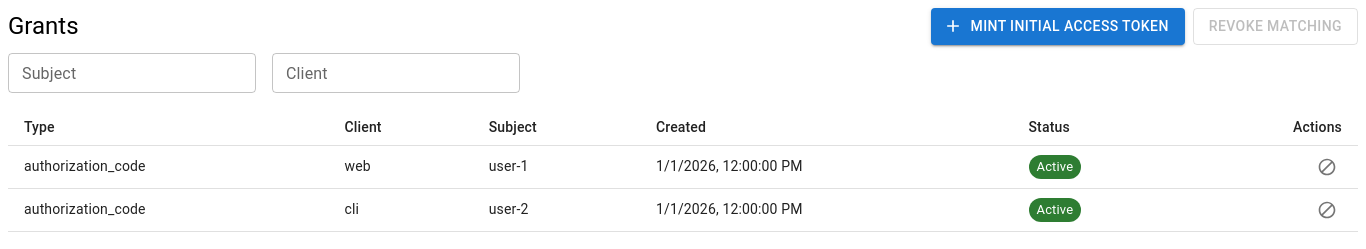
GrantsPage (list states and filters) › applies the trimmed subject and client filters as list query parameters
The width and height of the screenshot is (1366, 249).
Expected: the row with test id "grant-row-g-2" is shown, [8,188,1358,231]
Type " user-1 " into the field labelled "Subject" at (132, 72), box [8,52,256,92]
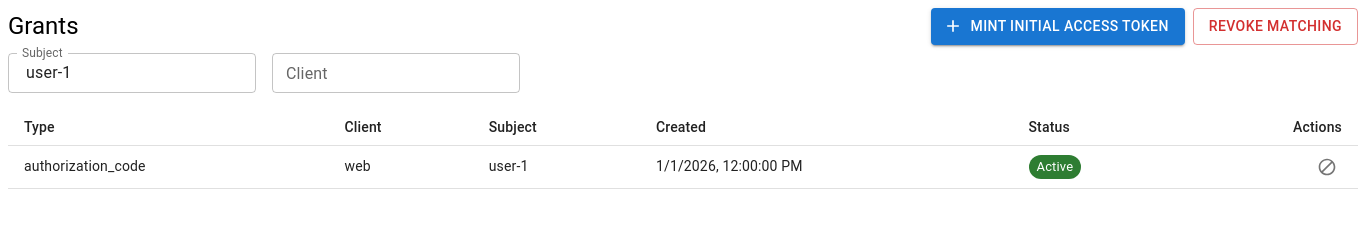
Expected: the row with test id "grant-row-g-1" is shown, [8,145,1358,188]
Now the row with test id "grant-row-g-2" is gone
